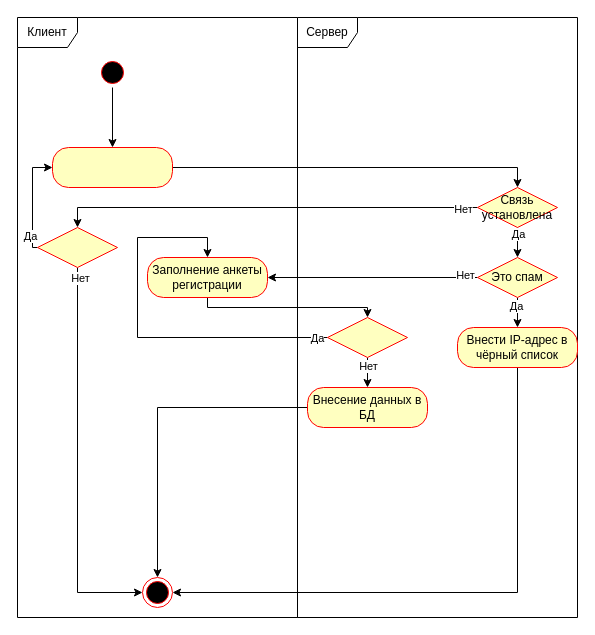
Image size: 595x635. Some labels were removed from this diagram. The shapes that lost their labels are listed below. From the top down, each one's centre as x and y in pixels, then its label:
point (112, 167): Установление связи с сервером
point (77, 247): Повторное соединение
point (367, 337): Такой логин уже есть
